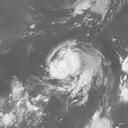cyclone: (47, 40, 100, 89)
